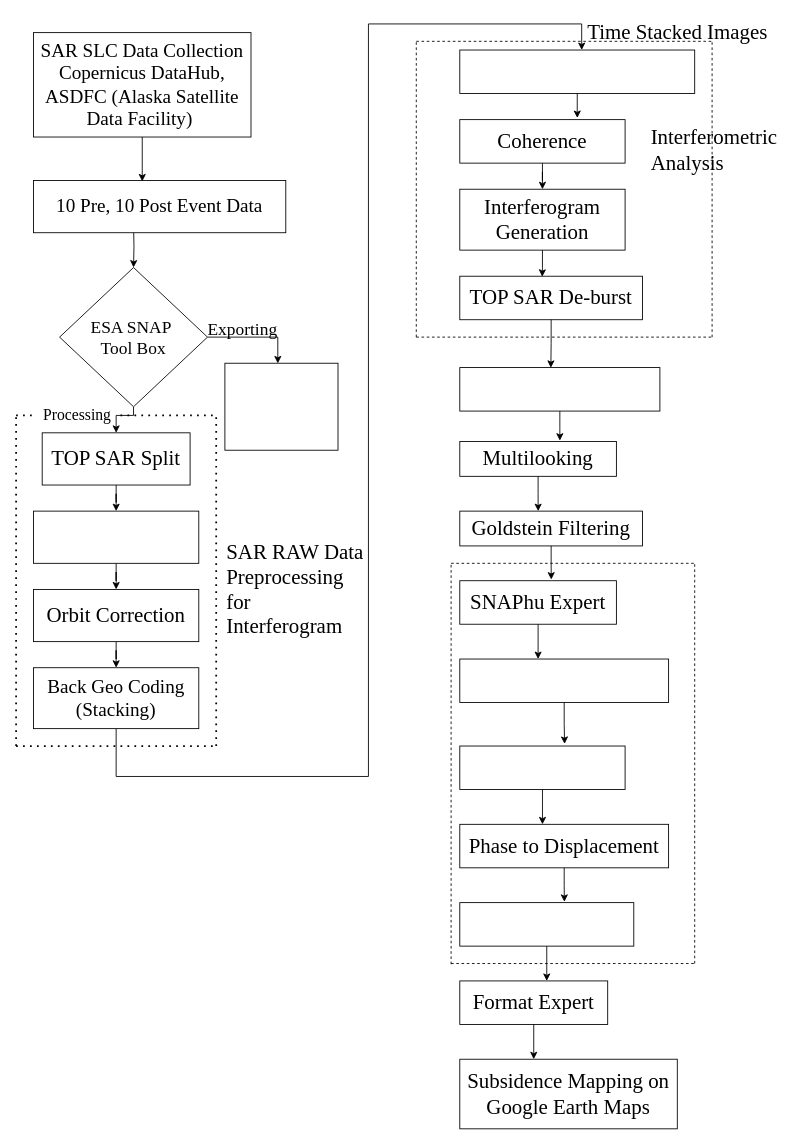
Image size: 805x1144. Some labels were removed from this diagram. The centre of each missing label's shape, as x and y in pixels:
Apply Orbit File: the point at 116,536
Enhanced Spectral Diversity: the point at 577,71
GeoTiFF KML KMZ Legending: the point at 281,406
SNAPhu Import: the point at 542,767
SNAPhu Unwrapping: the point at 564,680
Terrain Correction: the point at 546,924
Topo Phase Removal: the point at 559,389
